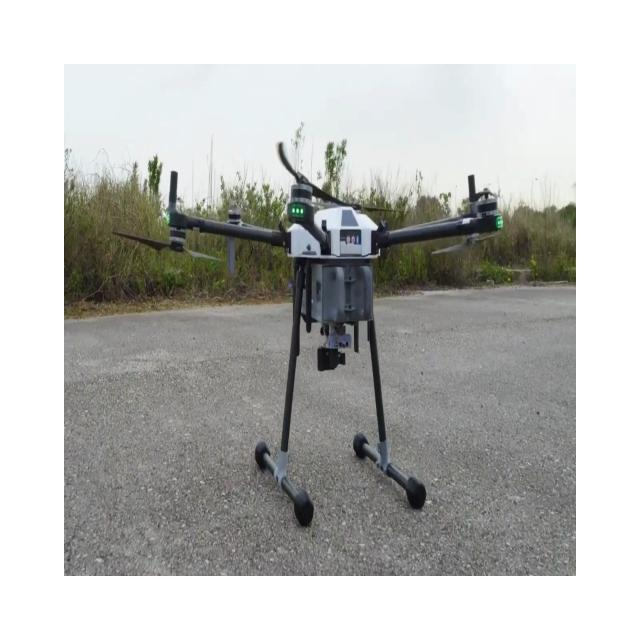drone: (112, 139, 503, 527)
